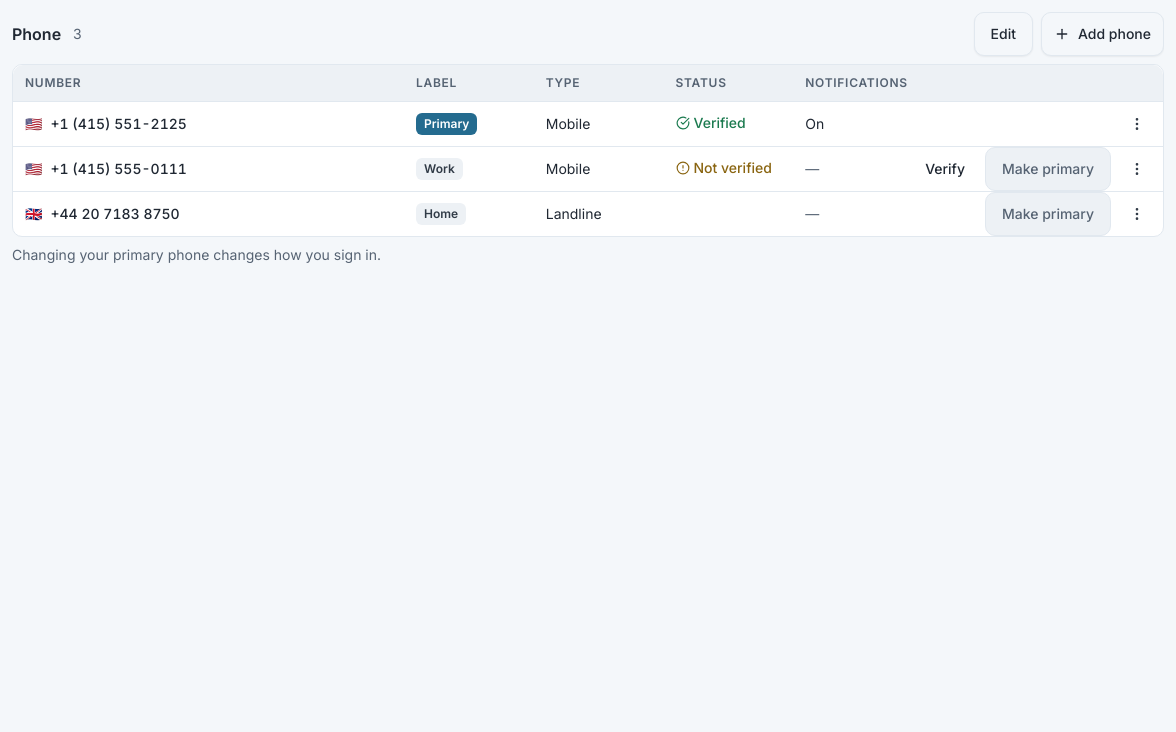
it: PhoneSection: read-view entry points (Story 3.2) › Add phone opens edit with one new row: focus on its number, its help, an empty Label and Type, "New · not saved"
Step 1. Click the button "Add phone" → (1102, 34), box [1041,12,1164,56]
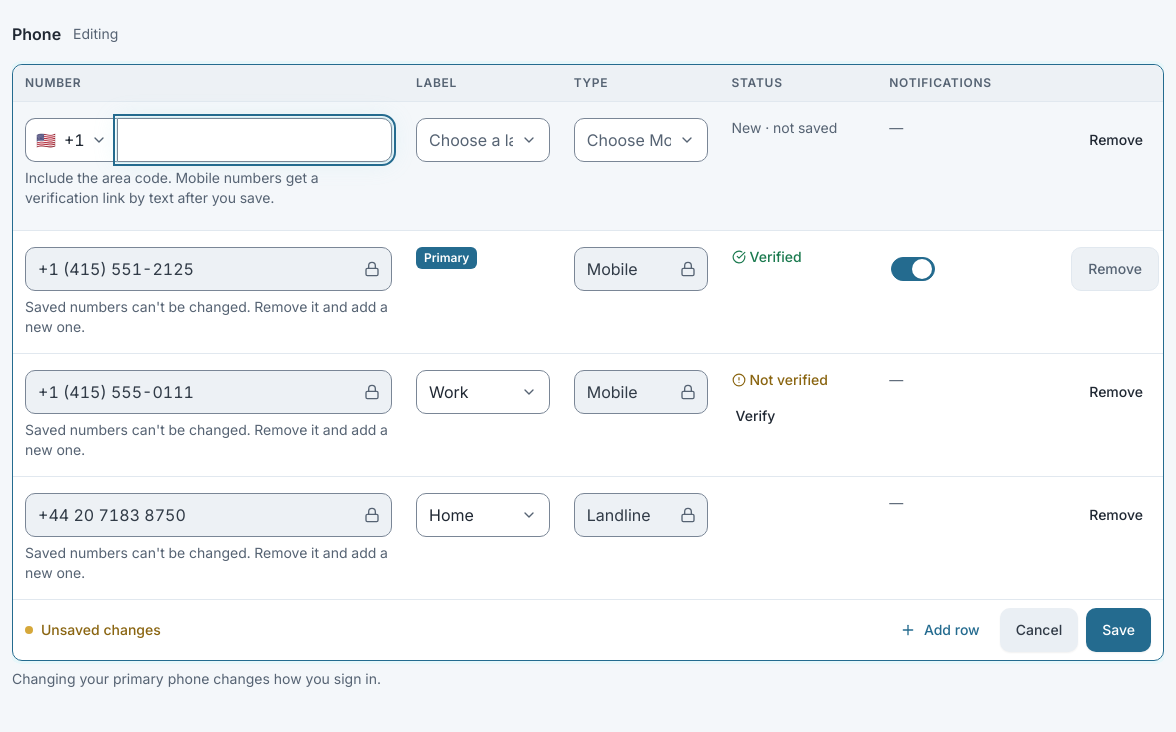
Expected: the dropdown labelled "label" reads "Choose a label", [416,118,550,162]
Expected: the dropdown named "Type" reads "Choose Mobile or Landline"
Expected: the text "New · not saved" is shown, [732,118,837,138]
Step 2. Press Enter in the dropdown named "Type", box [574,118,708,162]
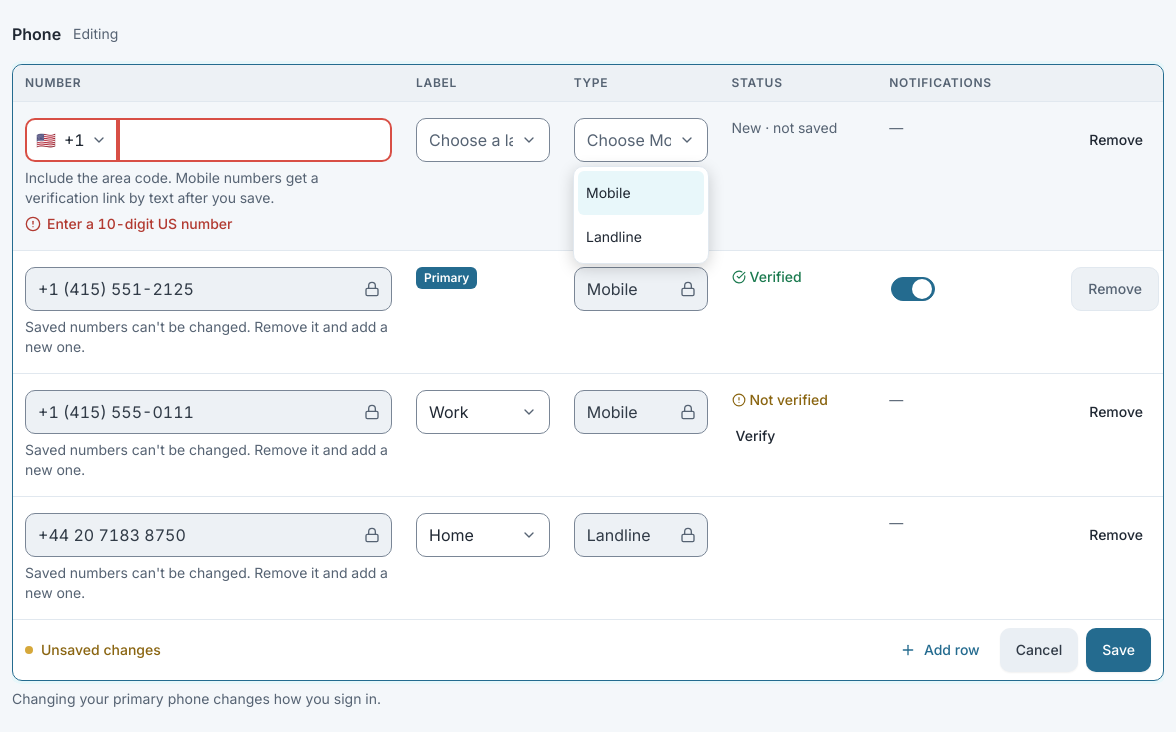
Expected: the options read "Mobile", "Landline", in this order, [578,171,704,215]; [586,228,642,245]
